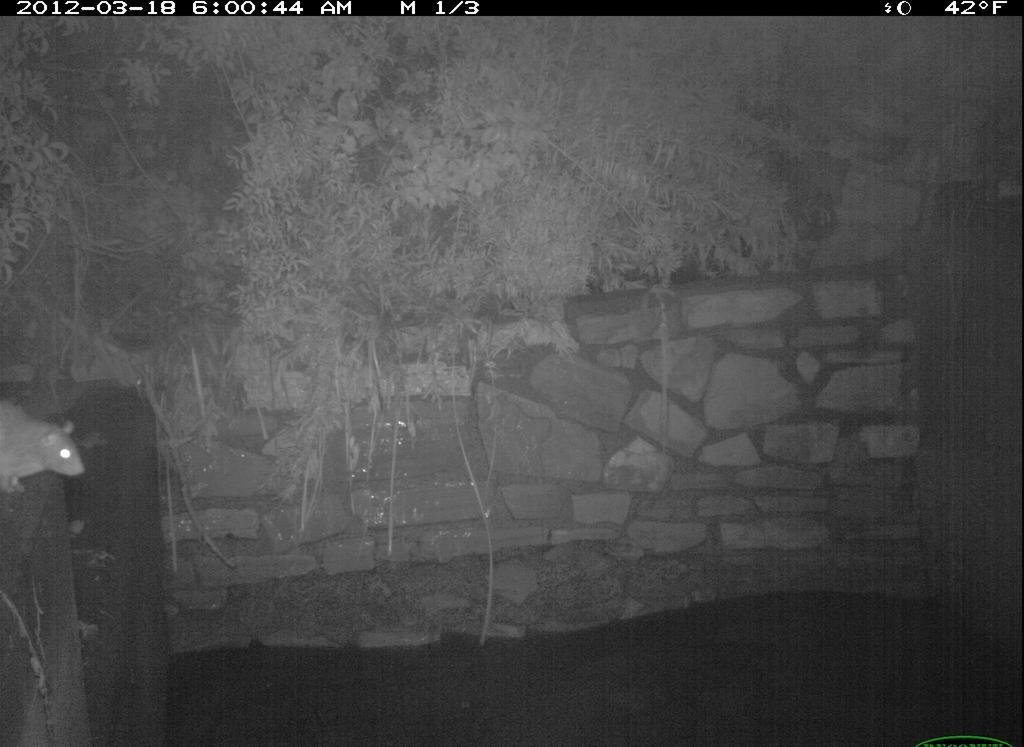rodent: (2, 388, 93, 510)
